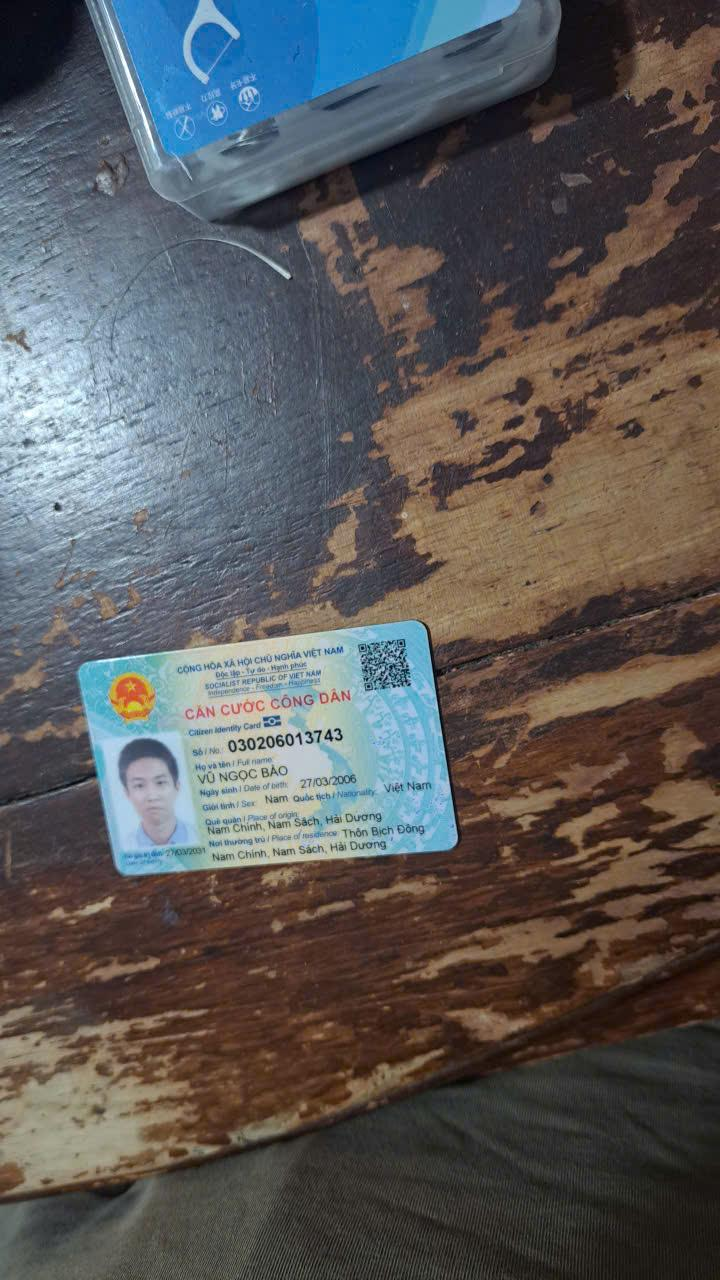cccd: (65, 605, 468, 891)
